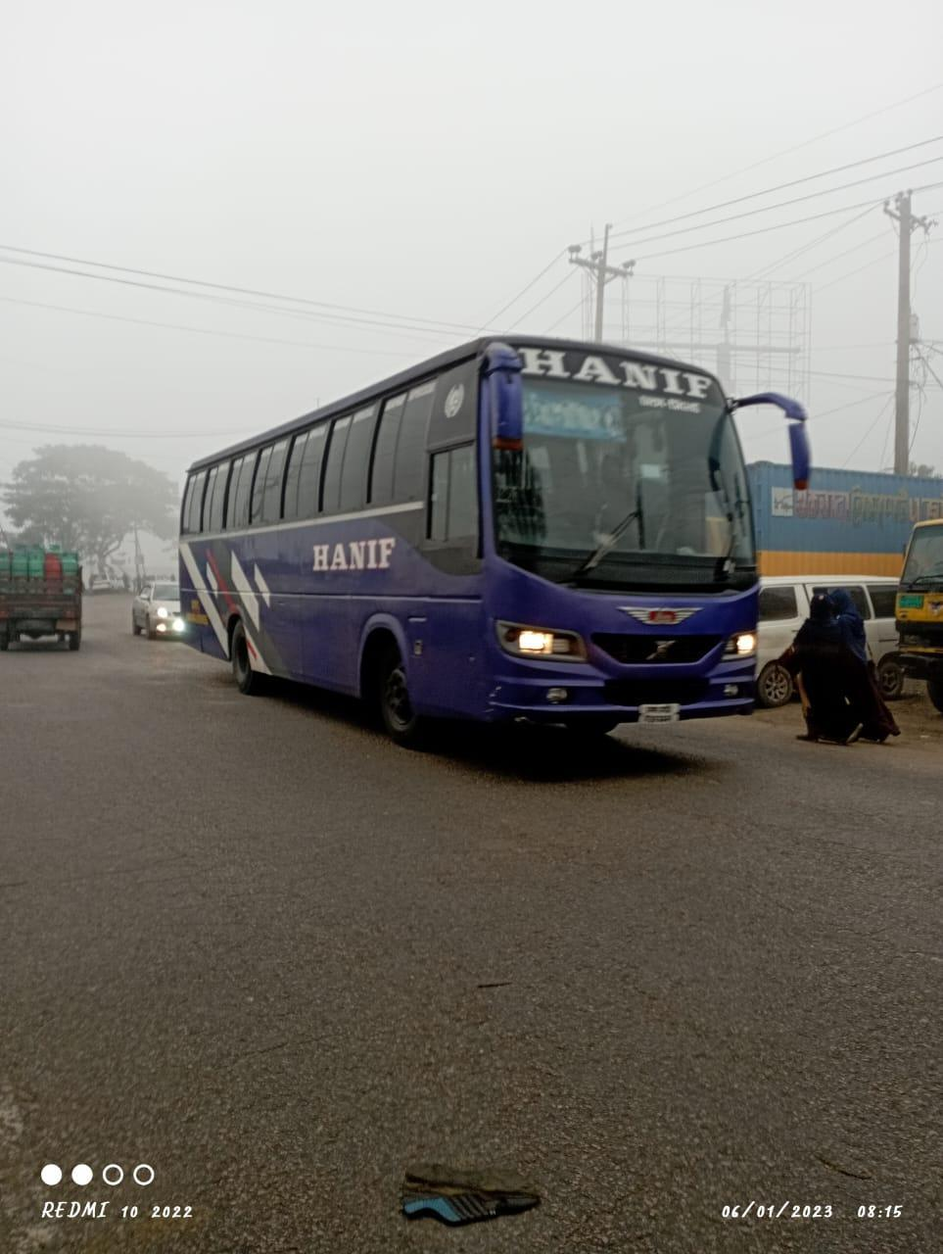Bus: (139, 325, 821, 767)
Car: (129, 575, 186, 650)
Truck: (1, 526, 99, 671)
